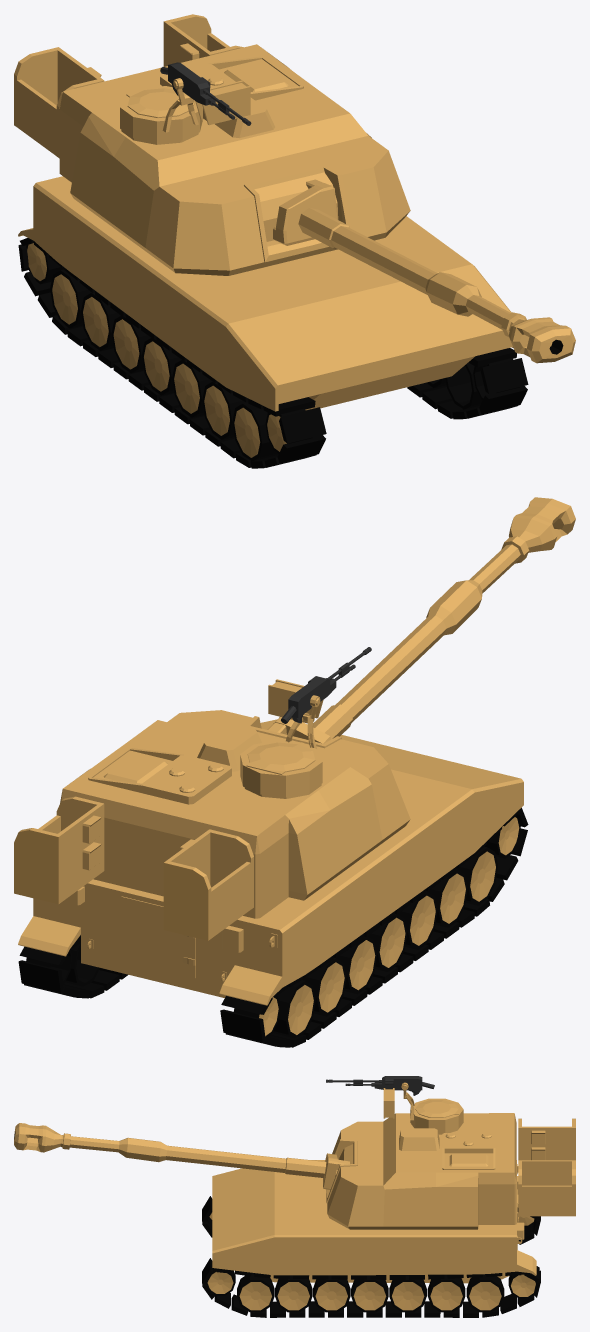
3 views of the same model, one above another, from view 1: azimuth 30°, elevation 25°; view 2: azimuth 150°, elevation 25°; view 3: azimuth 270°, elevation 25° (orthographic). The views are drawn at different scales.
Visible parts, largest first — view 1: Plane.012, Plane.010, Cube.006, Plane.011, Cube.007, Plane.014, Cube.008; view 2: Plane.012, Plane.010, Cube.006, Plane.011, Plane.013, Cube.007, Plane.014; view 3: Plane.012, Plane.010, Cube.006, Plane.011, Cube.007, Plane.014.
Part boxes in pixels (<box>): Plane.012: <box>14,14,410,275</box>; Plane.010: <box>18,176,513,411</box>; Cube.006: <box>18,238,528,468</box>; Plane.011: <box>254,172,575,363</box>; Cube.007: <box>160,62,251,125</box>; Plane.014: <box>126,85,194,117</box>; Cube.008: <box>162,74,198,132</box>; Plane.012: <box>14,710,410,940</box>; Plane.010: <box>18,719,523,1005</box>; Cube.006: <box>18,807,528,1047</box>; Plane.011: <box>268,497,575,743</box>; Plane.013: <box>119,896,195,979</box>; Cube.007: <box>268,647,371,723</box>; Plane.014: <box>246,742,315,774</box>; Plane.012: <box>326,1098,575,1229</box>; Plane.010: <box>212,1160,536,1283</box>; Cube.006: <box>202,1196,540,1317</box>; Plane.011: <box>14,1123,353,1189</box>; Cube.007: <box>326,1076,434,1118</box>; Plane.014: <box>415,1100,458,1117</box>.
Bounding box in the file's own units: 357 × 402 × 1109.
